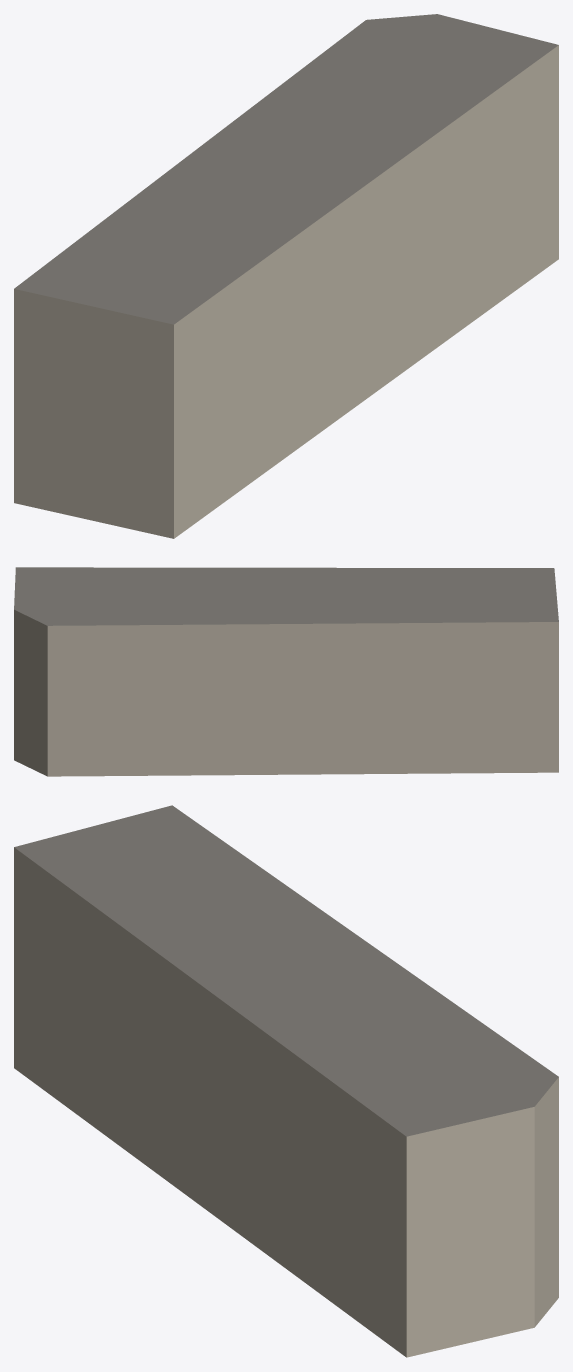
3 views of the same model, one above another, from view 1: azimuth 30°, elevation 25°; view 2: azimuth 150°, elevation 25°; view 3: azimuth 270°, elevation 25° (orthographic). The views are drawn at different scales.
Parts seen in each view (by area): view 1: HP-w369237971; view 2: HP-w369237971; view 3: HP-w369237971.
Part boxes in pixels (x1,y1,x2,y2): HP-w369237971: (14,14,558,538); HP-w369237971: (14,567,558,776); HP-w369237971: (14,805,558,1357).
Bounding box in the file's own units: 57.9 × 18 × 40.24.
